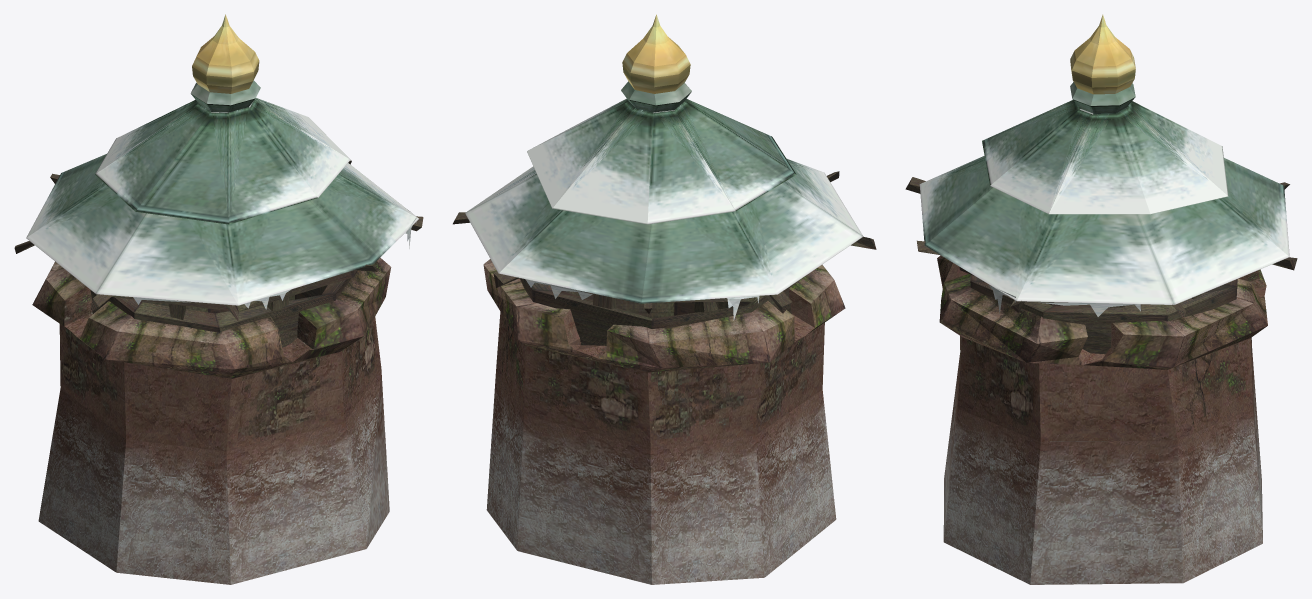
File: C1SMTLSNH.bgf.obj
3 views of the same model, side by side, from view 1: azimuth 30°, elevation 25°; view 2: azimuth 150°, elevation 25°; view 3: azimuth 270°, elevation 25° (orthographic).
Visible parts, largest first — view 1: C1SMTLSN; view 2: C1SMTLSN; view 3: C1SMTLSN.
Boxes of the visible parts, x1,y1,x2,y2 form: C1SMTLSN: (14, 14, 423, 584); C1SMTLSN: (453, 14, 876, 584); C1SMTLSN: (905, 14, 1297, 584).
Bounding box in the file's own units: 14.37 × 20.16 × 14.11.
Materials: 4 (4 with a texture image).
